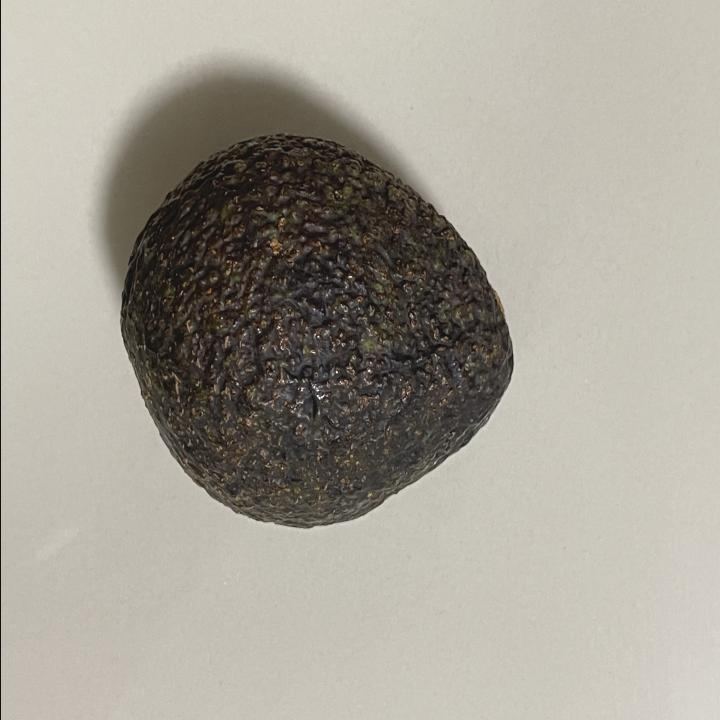Level2: (111, 124, 520, 542)
